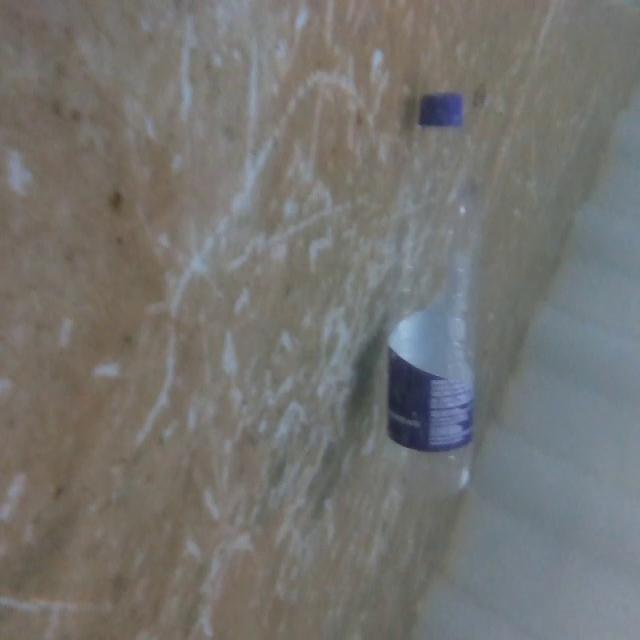plastic bottle: (376, 81, 486, 507)
